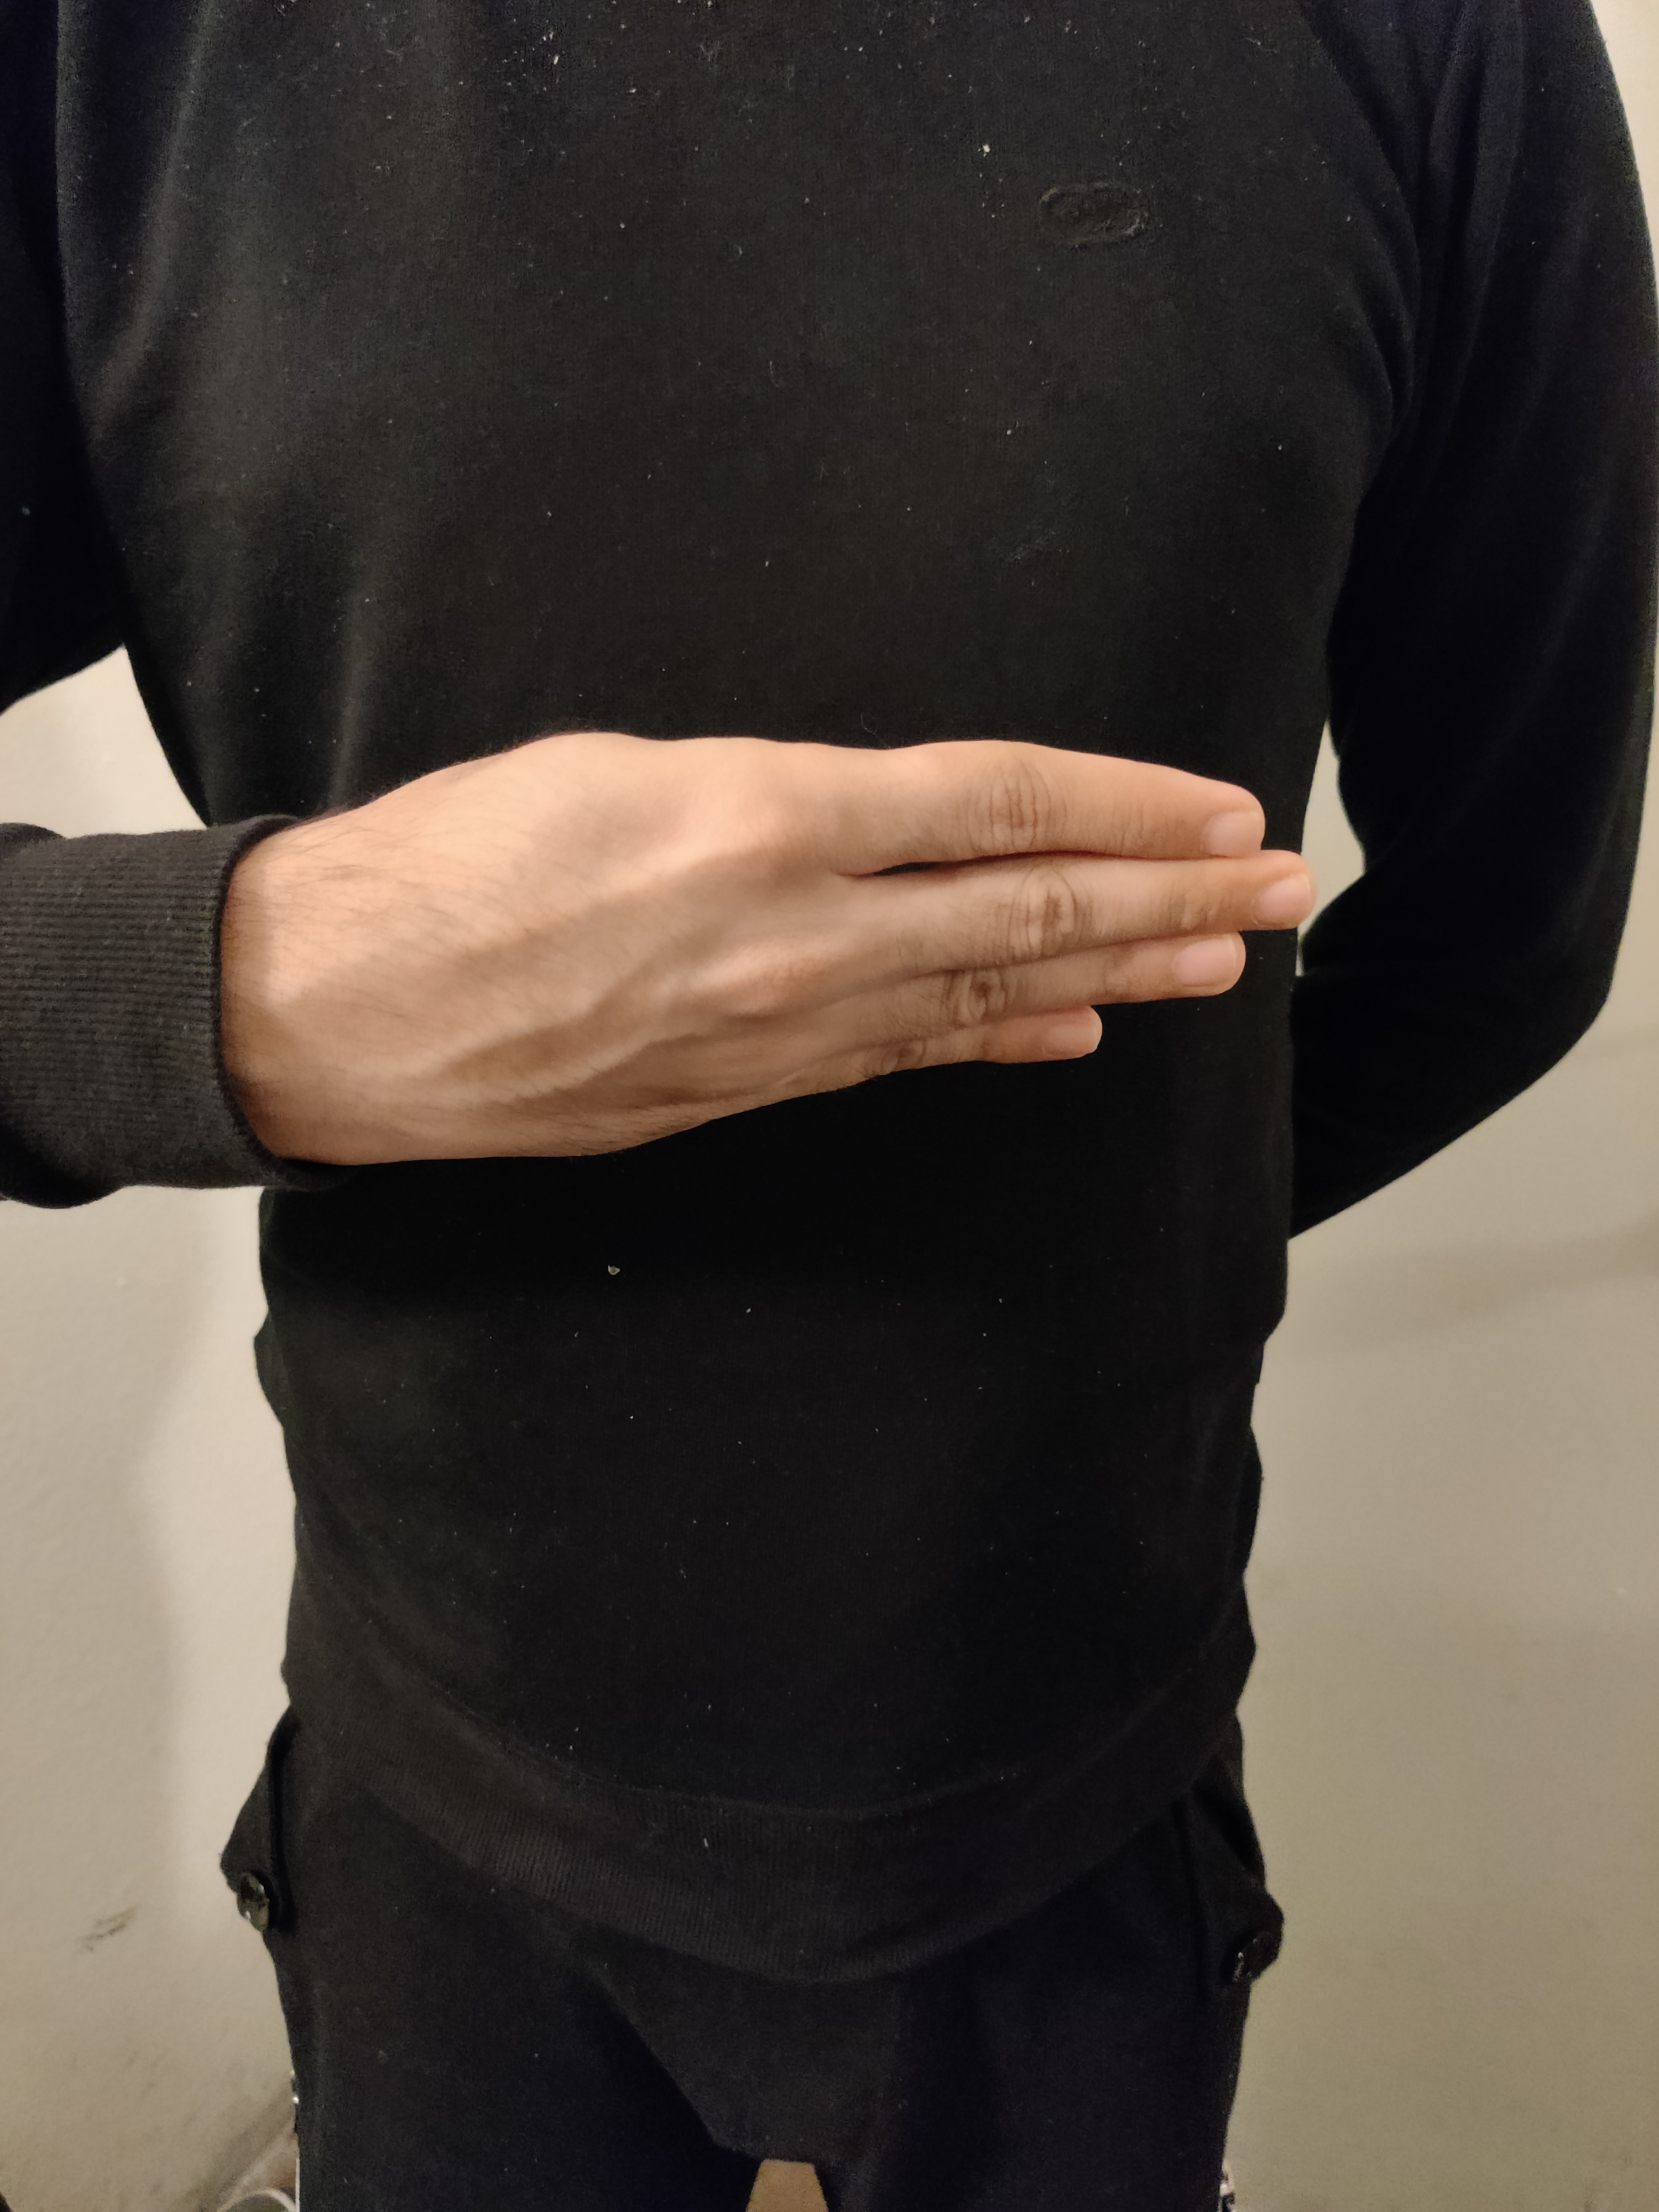left: (52, 542, 1392, 1348)
